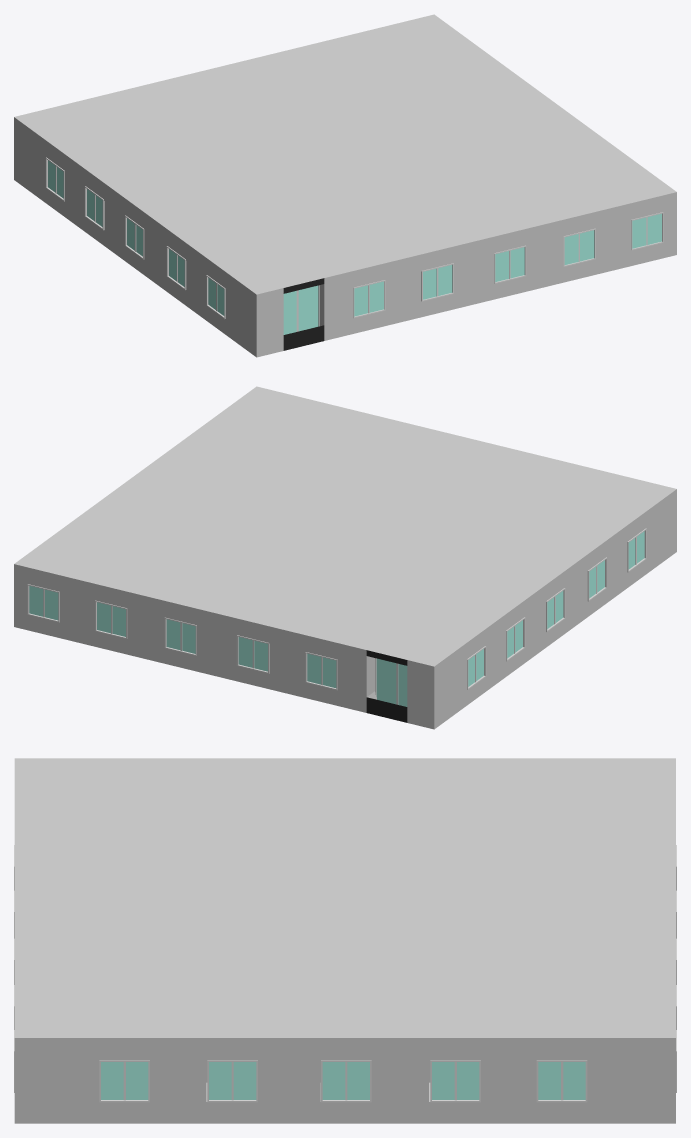
File: Demo Construction floor.fbx
3 renders of one model, top to bottom at view 1: azimuth 30°, elevation 25°; view 2: azimuth 150°, elevation 25°; view 3: azimuth 270°, elevation 25°, orthographic. The views are drawn at different scales.
Visible parts, largest first — view 1: Construction Floor, Window.011, Window.001, Window.002, Window.004, Window.005, Window.003, Window.019, Window.021, Window.020, Window.018, Window.022; view 2: Construction Floor, Window.012, Window.016, Window.013, Window.014, Window.015, Window.017, Window.018, Window.021, Window.019, Window.020, Window.022; view 3: Construction Floor, Window.006, Window.007, Window.008, Window.009, Window.010.
Boxes of the visible parts, x1=… form: Construction Floor: x1=14, y1=14, x2=676, y2=357; Window.011: x1=283, y1=285, x2=319, y2=334; Window.001: x1=353, y1=280, x2=385, y2=318; Window.002: x1=421, y1=263, x2=453, y2=301; Window.004: x1=563, y1=228, x2=595, y2=266; Window.005: x1=631, y1=212, x2=663, y2=250; Window.003: x1=494, y1=245, x2=526, y2=283; Window.019: x1=166, y1=246, x2=186, y2=290; Window.021: x1=84, y1=186, x2=104, y2=230; Window.020: x1=125, y1=215, x2=144, y2=259; Window.018: x1=206, y1=275, x2=225, y2=318; Window.022: x1=45, y1=157, x2=64, y2=201; Construction Floor: x1=14, y1=386, x2=676, y2=729; Window.012: x1=375, y1=658, x2=407, y2=706; Window.016: x1=236, y1=635, x2=269, y2=673; Window.013: x1=27, y1=584, x2=59, y2=622; Window.014: x1=95, y1=600, x2=127, y2=638; Window.015: x1=164, y1=617, x2=196, y2=655; Window.017: x1=305, y1=652, x2=337, y2=690; Window.018: x1=627, y1=528, x2=646, y2=572; Window.021: x1=506, y1=617, x2=525, y2=661; Window.019: x1=587, y1=557, x2=606, y2=601; Window.020: x1=546, y1=588, x2=565, y2=631; Window.022: x1=467, y1=646, x2=486, y2=689; Construction Floor: x1=14, y1=758, x2=675, y2=1123; Window.006: x1=536, y1=1060, x2=587, y2=1102; Window.007: x1=430, y1=1060, x2=480, y2=1102; Window.008: x1=321, y1=1060, x2=371, y2=1102; Window.009: x1=207, y1=1060, x2=257, y2=1102; Window.010: x1=99, y1=1060, x2=149, y2=1102.
Bounding box in the file's own units: 2105 × 300 × 2106.
